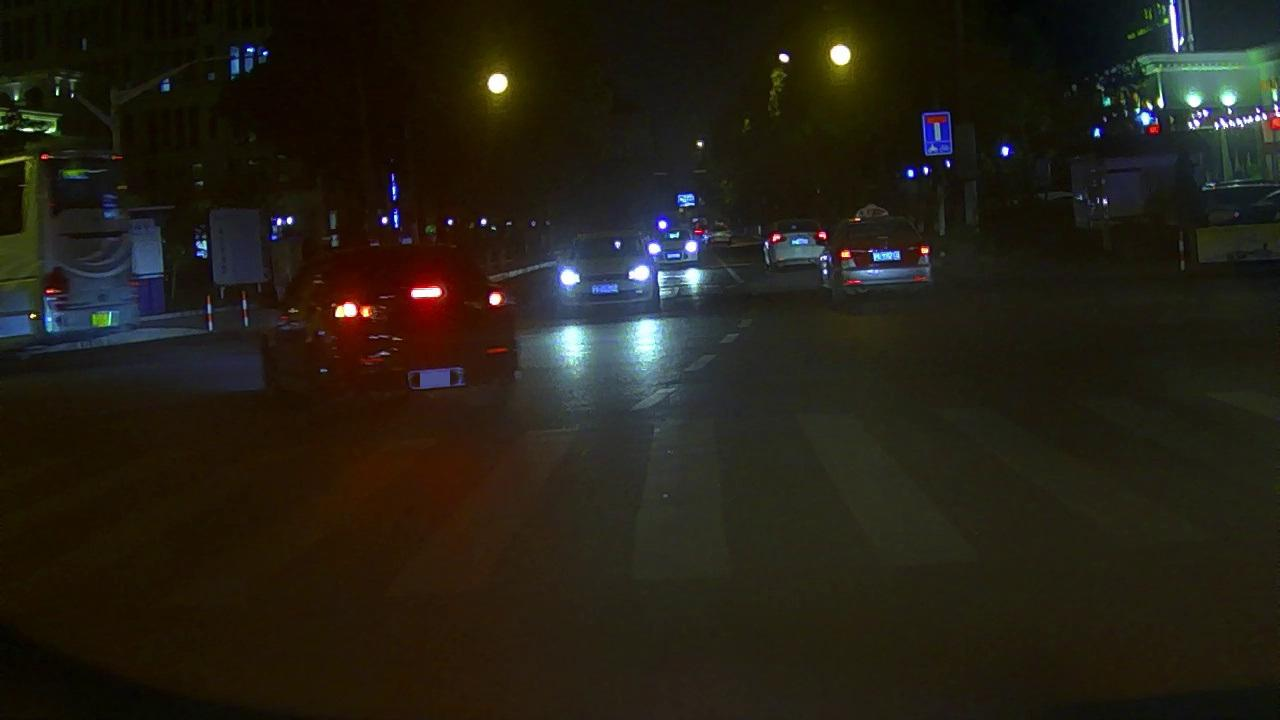traffic_light: (481, 64, 514, 101), (823, 38, 858, 72)
